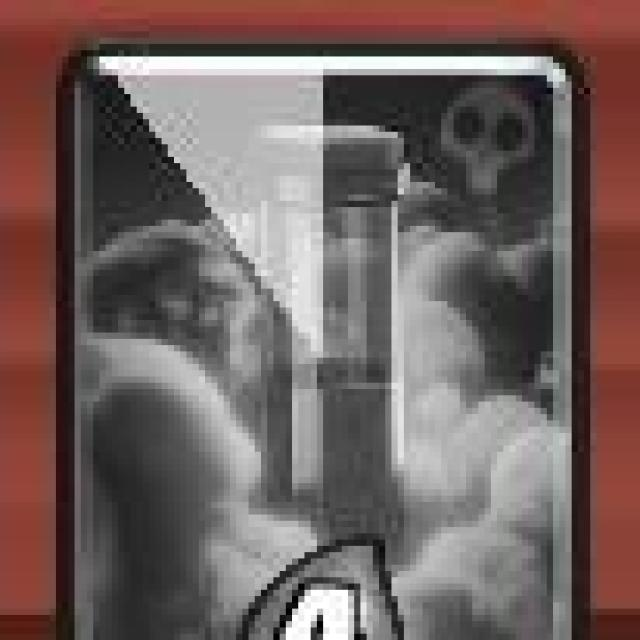Poison: (68, 46, 584, 640)
